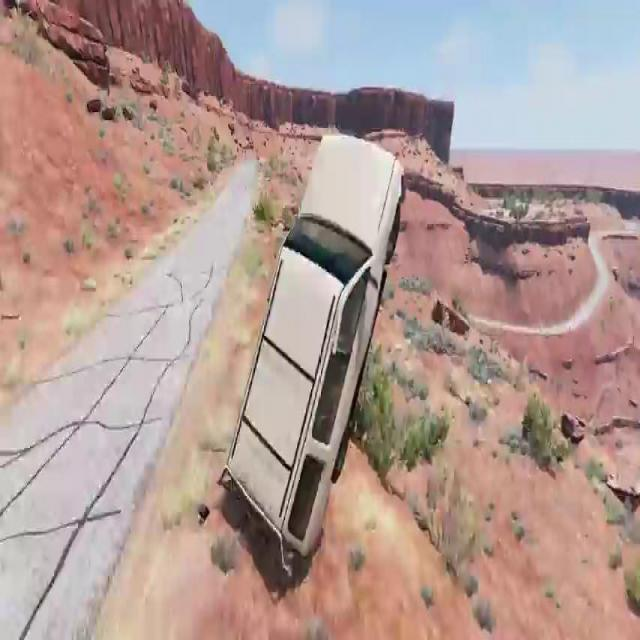accident: (219, 114, 405, 577)
